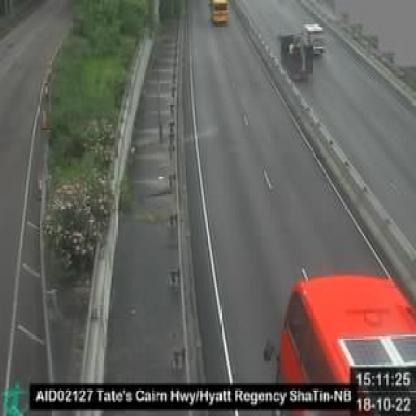Bus: (269, 270, 416, 405), (209, 0, 231, 27)
Car: (302, 22, 326, 56)
Truck: (278, 32, 314, 82)
